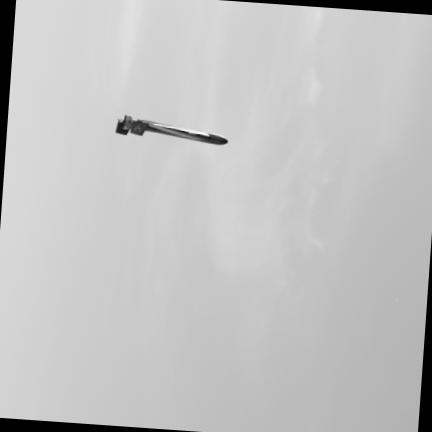Shahed: (112, 113, 230, 146)
